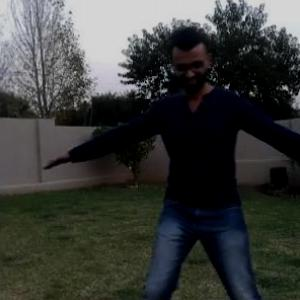land: (90, 49, 299, 299)
